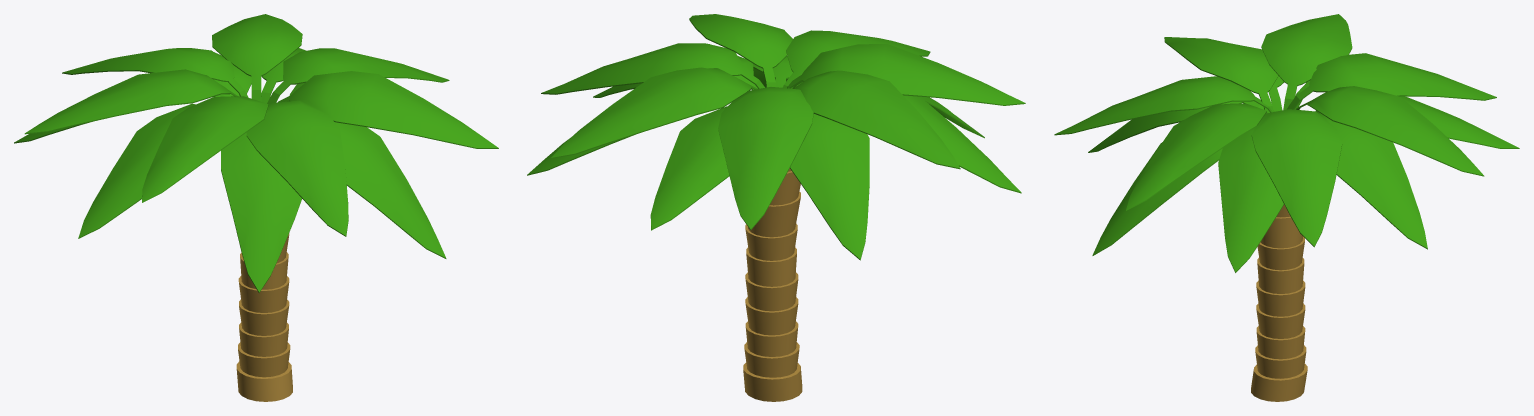
Rendered from StraightPalmTreeObject.fbx.
The picture shows the model from 3 angles, left to right: view 1: azimuth 30°, elevation 25°; view 2: azimuth 150°, elevation 25°; view 3: azimuth 270°, elevation 25°; orthographic projection. The views are drawn at different scales.
Visible parts, largest first — view 1: PalmTreeLeaf027, PalmTreeLeaf026, PalmTreeLeaf019, PalmTree_straight, PalmTreeLeaf028, PalmTreeLeaf020, PalmTreeLeaf029, PalmTreeLeaf018, PalmTreeLeaf024, PalmTreeLeaf025, PalmTreeLeaf030, PalmTreeLeaf022 (+1 smaller); view 2: PalmTree_straight, PalmTreeLeaf030, PalmTreeLeaf024, PalmTreeLeaf016, PalmTreeLeaf029, PalmTreeLeaf028, PalmTreeLeaf023, PalmTreeLeaf025, PalmTreeLeaf026, PalmTreeLeaf018, PalmTreeLeaf027, PalmTreeLeaf022 (+3 smaller); view 3: PalmTree_straight, PalmTreeLeaf025, PalmTreeLeaf024, PalmTreeLeaf022, PalmTreeLeaf021, PalmTreeLeaf026, PalmTreeLeaf030, PalmTreeLeaf029, PalmTreeLeaf027, PalmTreeLeaf028, PalmTreeLeaf020, PalmTreeLeaf023 (+1 smaller).
Part boxes in pixels (left/top/right/bottom): PalmTreeLeaf027: left=246, top=100, right=348, bottom=236; PalmTreeLeaf026: left=277, top=71, right=498, bottom=148; PalmTreeLeaf019: left=221, top=132, right=301, bottom=292; PalmTree_straight: left=236, top=233, right=292, bottom=401; PalmTreeLeaf028: left=142, top=96, right=268, bottom=202; PalmTreeLeaf020: left=335, top=122, right=446, bottom=258; PalmTreeLeaf029: left=24, top=69, right=237, bottom=134; PalmTreeLeaf018: left=78, top=103, right=195, bottom=238; PalmTreeLeaf024: left=212, top=14, right=302, bottom=101; PalmTreeLeaf025: left=267, top=48, right=449, bottom=104; PalmTreeLeaf030: left=62, top=48, right=248, bottom=97; PalmTreeLeaf022: left=261, top=48, right=306, bottom=103; PalmTree_straight: left=743, top=168, right=802, bottom=401; PalmTreeLeaf030: left=718, top=87, right=813, bottom=229; PalmTreeLeaf024: left=551, top=67, right=757, bottom=158; PalmTreeLeaf016: left=790, top=114, right=869, bottom=260; PalmTreeLeaf029: left=793, top=70, right=960, bottom=169; PalmTreeLeaf028: left=787, top=44, right=1025, bottom=105; PalmTreeLeaf023: left=650, top=106, right=729, bottom=230; PalmTreeLeaf025: left=541, top=43, right=764, bottom=94; PalmTreeLeaf026: left=689, top=14, right=792, bottom=87; PalmTreeLeaf018: left=903, top=95, right=1021, bottom=193; PalmTreeLeaf027: left=783, top=30, right=930, bottom=88; PalmTreeLeaf022: left=527, top=135, right=633, bottom=175; PalmTree_straight: left=1251, top=204, right=1307, bottom=401; PalmTreeLeaf025: left=1251, top=109, right=1342, bottom=247; PalmTreeLeaf024: left=1296, top=86, right=1484, bottom=176; PalmTreeLeaf022: left=1318, top=113, right=1427, bottom=249; PalmTreeLeaf021: left=1218, top=128, right=1283, bottom=272; PalmTreeLeaf026: left=1126, top=103, right=1267, bottom=210; PalmTreeLeaf030: left=1287, top=53, right=1496, bottom=109; PalmTreeLeaf029: left=1261, top=14, right=1352, bottom=109; PalmTreeLeaf027: left=1054, top=76, right=1274, bottom=135; PalmTreeLeaf028: left=1164, top=37, right=1278, bottom=112; PalmTreeLeaf020: left=1092, top=142, right=1222, bottom=255; PalmTreeLeaf023: left=1315, top=96, right=1519, bottom=148.
Size of the model in its own units: 417 by 417 by 310.
